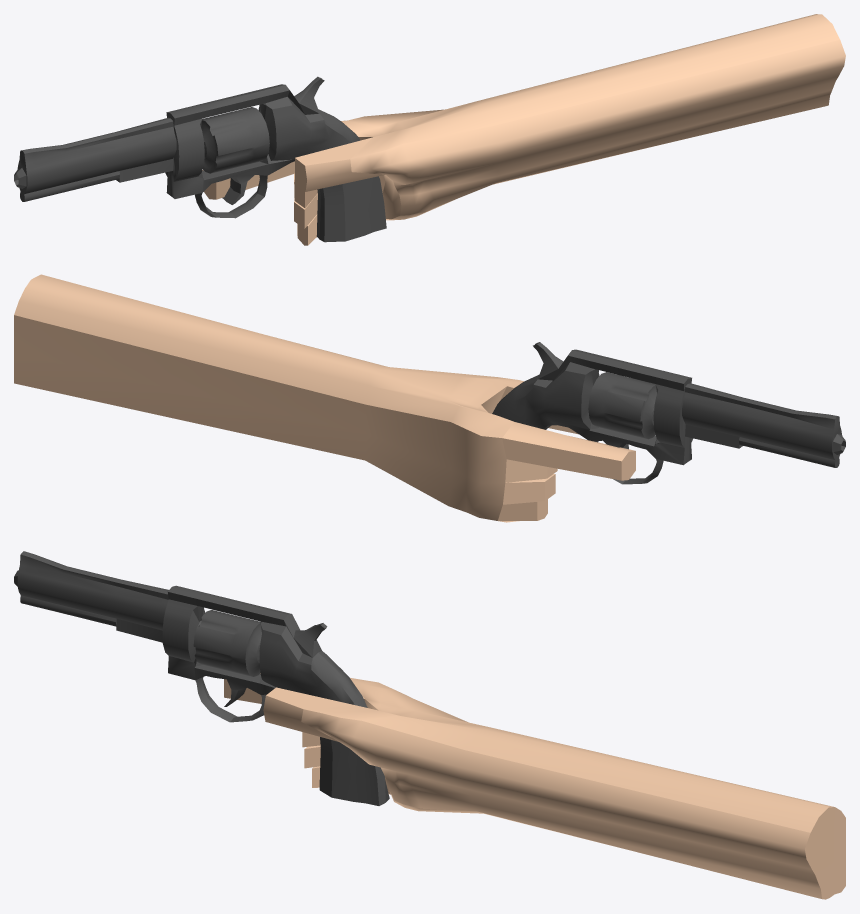
File: gun_4.fbx
3 views of the same model, one above another, from view 1: azimuth 30°, elevation 25°; view 2: azimuth 150°, elevation 25°; view 3: azimuth 330°, elevation 25° (orthographic).
Visible parts, largest first — view 1: pasted__pCube2; view 2: pasted__pCube2; view 3: pasted__pCube2.
Boxes of the visible parts, <box> form: pasted__pCube2: <box>14,14,845,245</box>; pasted__pCube2: <box>14,274,845,522</box>; pasted__pCube2: <box>14,551,845,899</box>.
Bounding box in the file's own units: 13.49 × 2.73 × 1.75.
